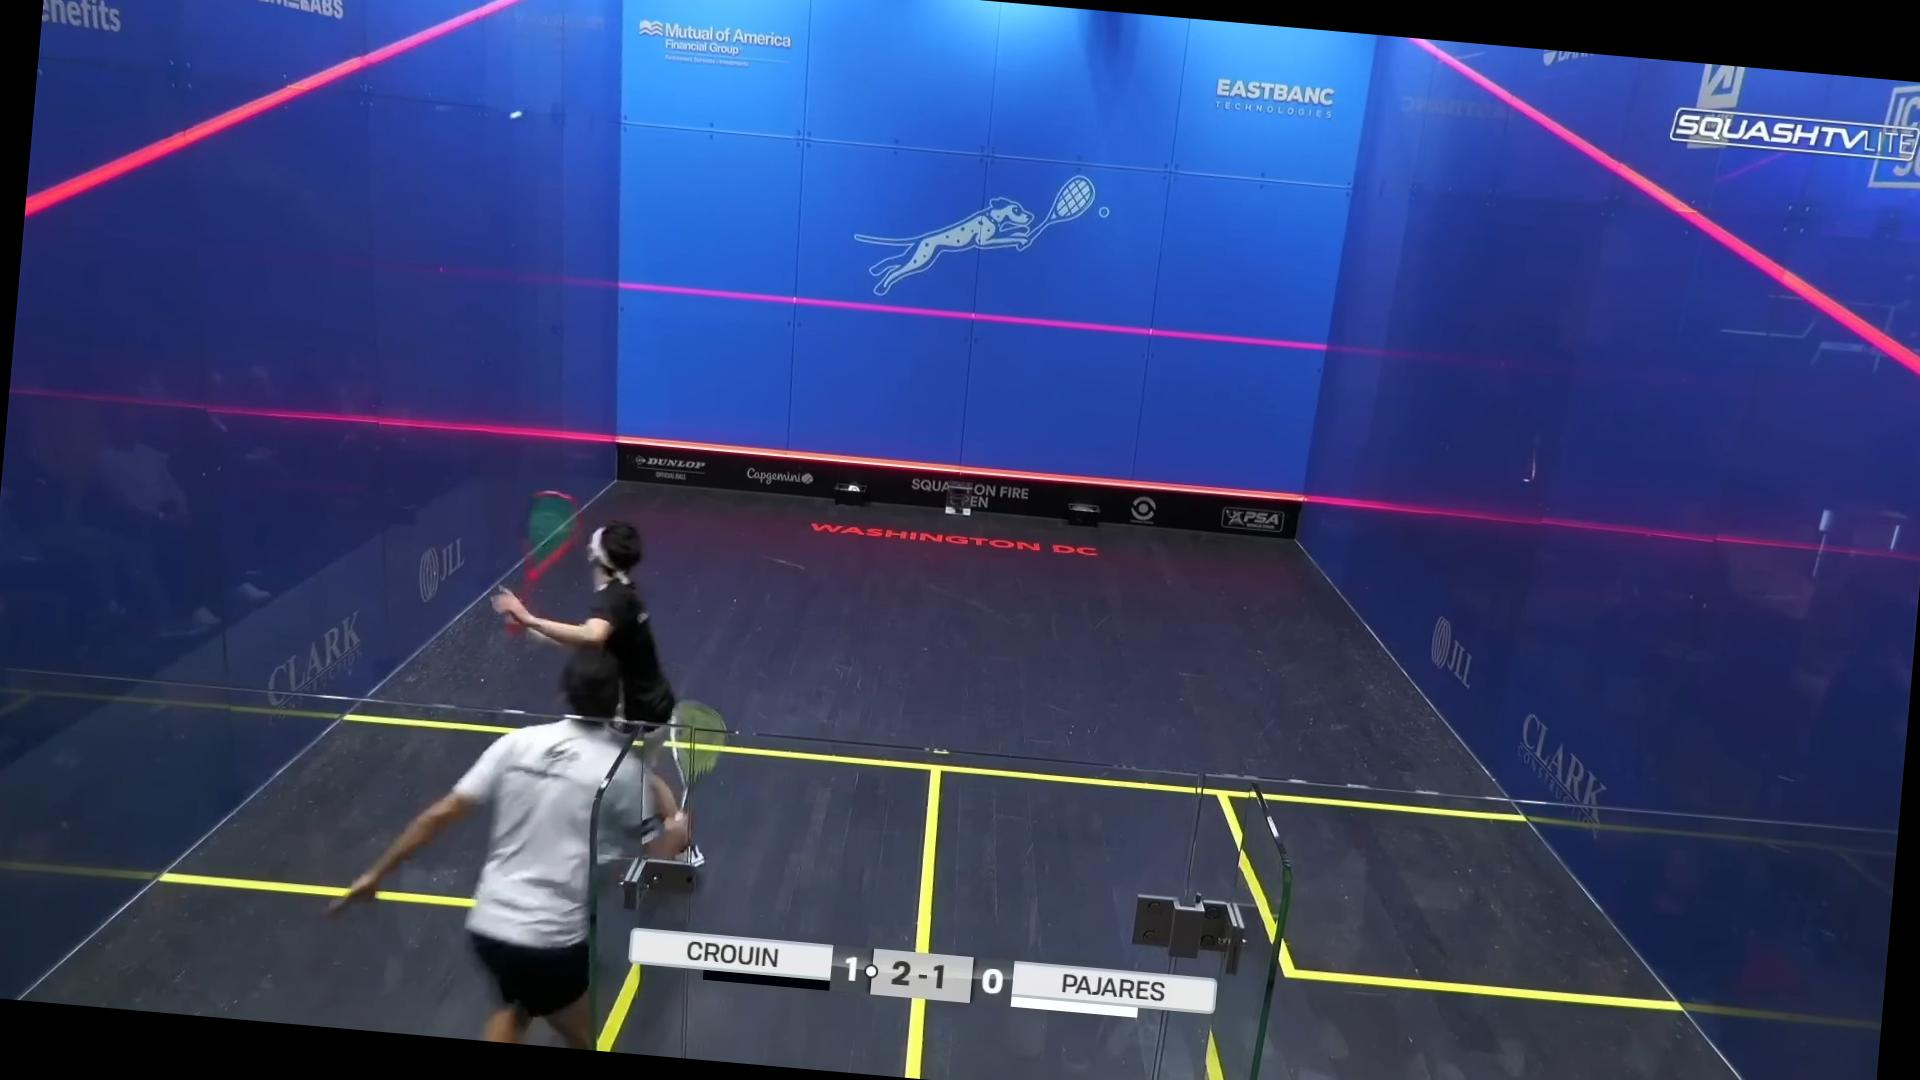Squash-Ball: (497, 95, 533, 136)
